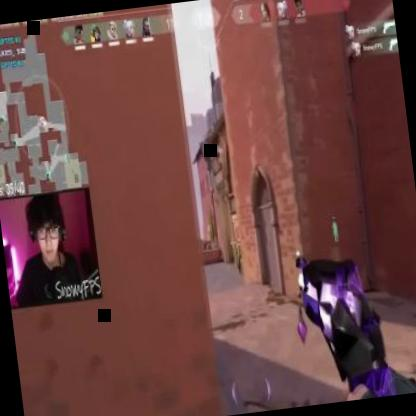enemy: (232, 235, 247, 273)
enemy_head: (236, 237, 242, 246)
